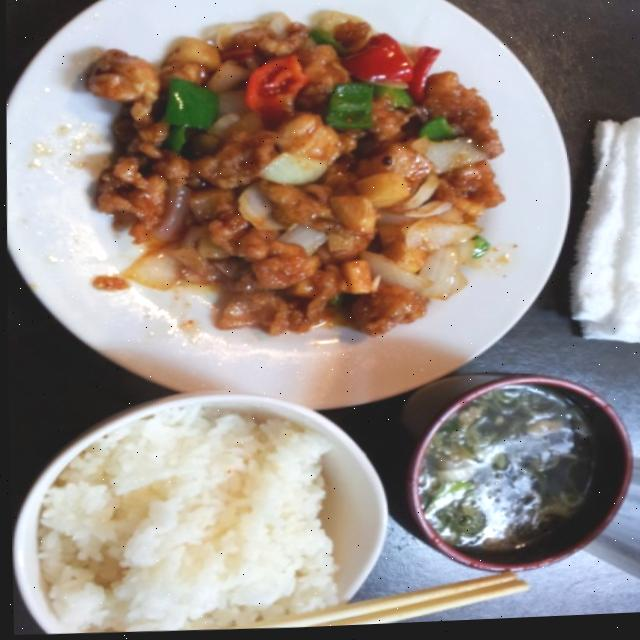猪肉菜式: (0, 0, 583, 425)
米饭主食: (7, 386, 391, 640)
